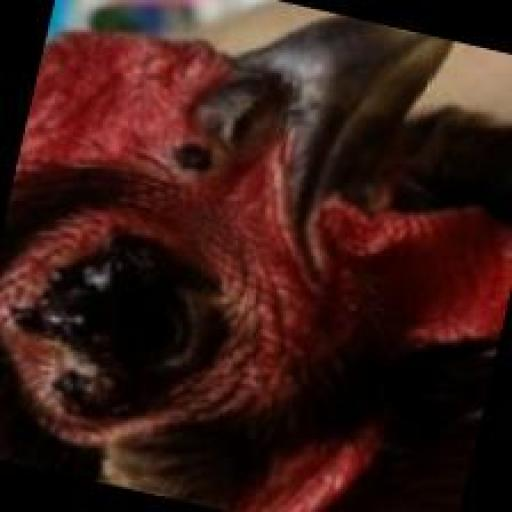disease: (9, 177, 275, 441)
